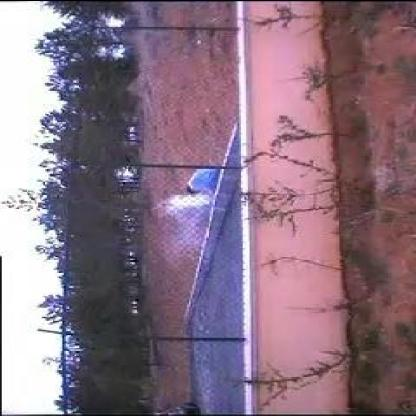-: (152, 192, 210, 244)
